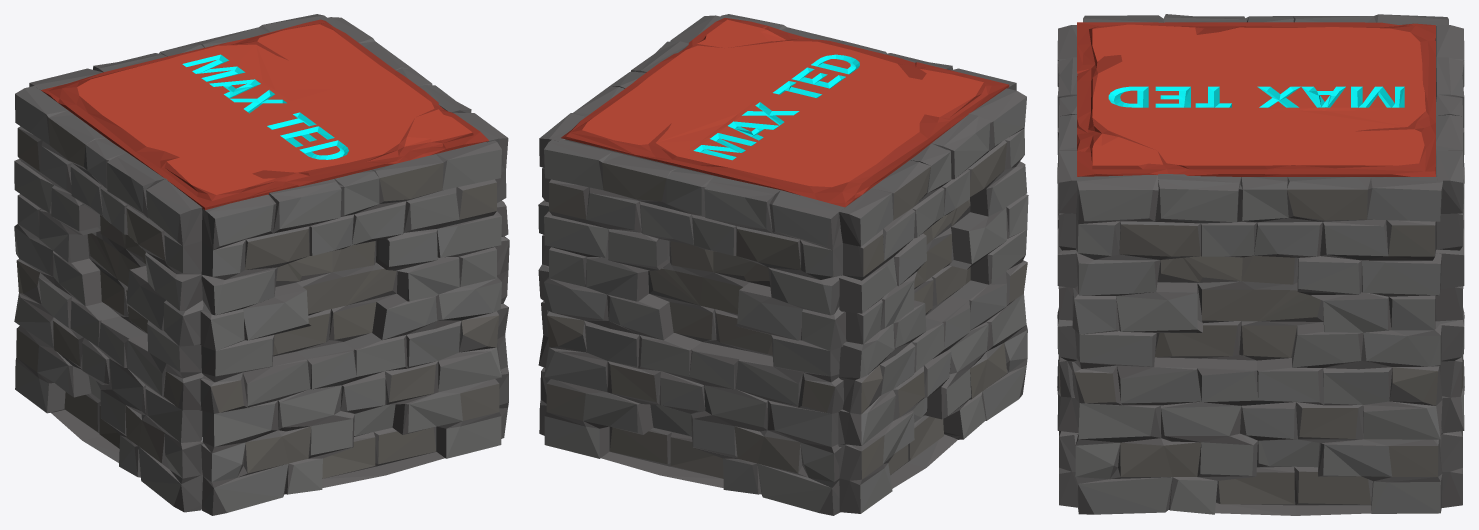
The model's file is SM_Env_Coner_A_03.glb.
3 renders of one model, left to right at view 1: azimuth 30°, elevation 25°; view 2: azimuth 150°, elevation 25°; view 3: azimuth 270°, elevation 25°, orthographic. The views are drawn at different scales.
Parts seen in each view (by area): view 1: SM_Env_Coner_A_03; view 2: SM_Env_Coner_A_03; view 3: SM_Env_Coner_A_03.
Part boxes in pixels (bbox=[...]): SM_Env_Coner_A_03: bbox=[14, 14, 509, 515]; SM_Env_Coner_A_03: bbox=[538, 14, 1028, 515]; SM_Env_Coner_A_03: bbox=[1057, 14, 1464, 515].
Size of the model in its own units: 5.74 by 5.19 by 5.68.
Materials: 1 (1 with a texture image).
